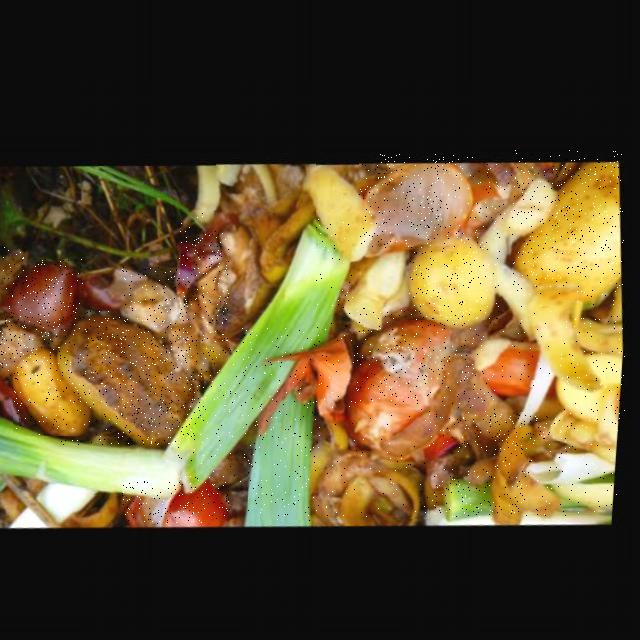biowaste: (177, 211, 353, 487), (348, 308, 495, 452), (61, 312, 204, 445), (217, 158, 316, 328), (512, 151, 624, 294), (0, 412, 192, 495), (317, 403, 429, 519), (249, 362, 323, 521), (359, 155, 477, 248), (561, 274, 627, 432), (518, 276, 609, 380), (410, 227, 501, 320), (14, 345, 101, 436), (495, 412, 568, 516), (459, 152, 549, 231), (529, 442, 621, 514), (181, 229, 229, 359), (123, 476, 230, 524), (8, 260, 83, 327), (121, 268, 193, 336), (0, 305, 57, 376), (485, 330, 544, 387), (432, 469, 500, 517), (0, 247, 30, 315)
